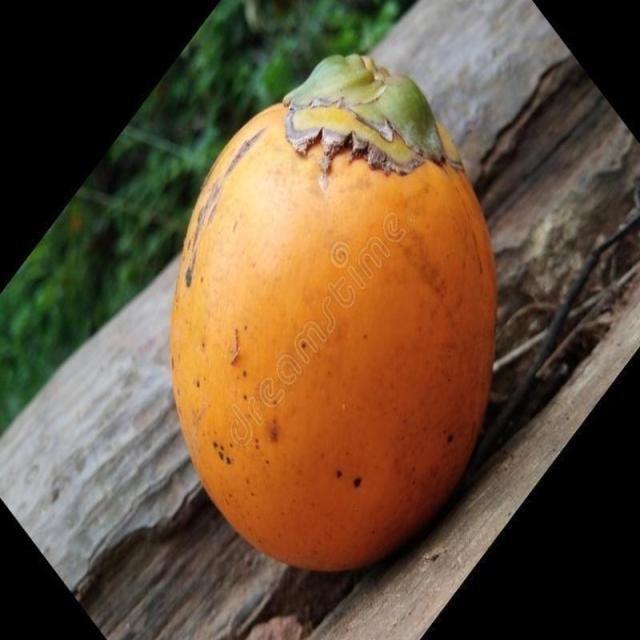good: (168, 55, 498, 576)
